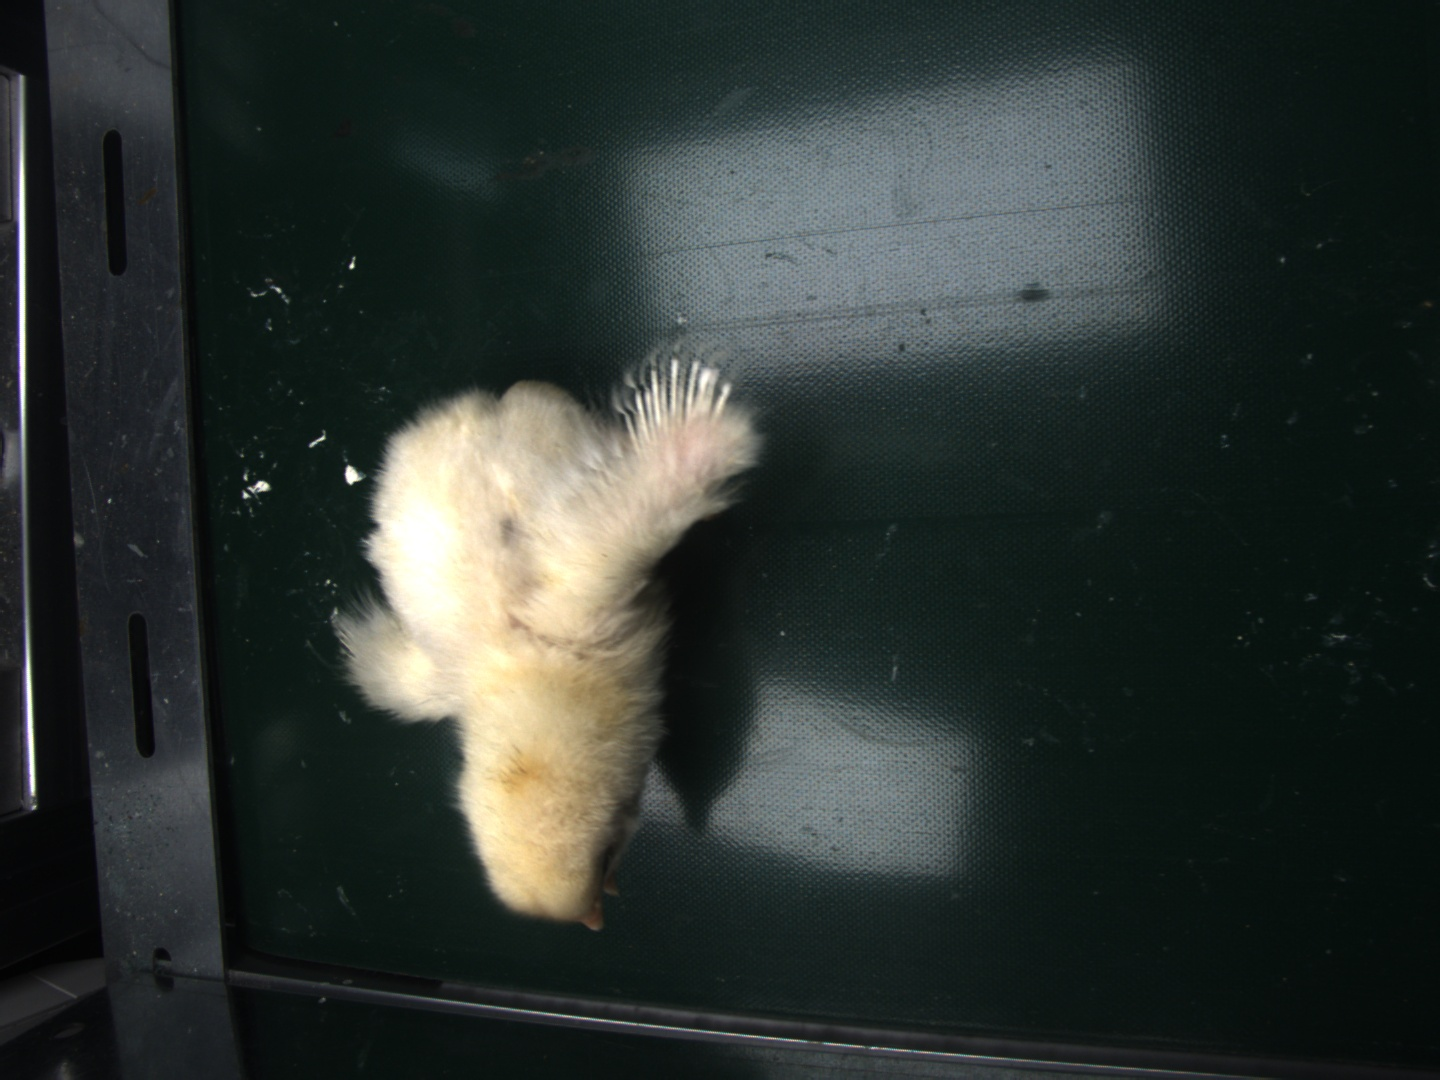male: (626, 354, 736, 437)
